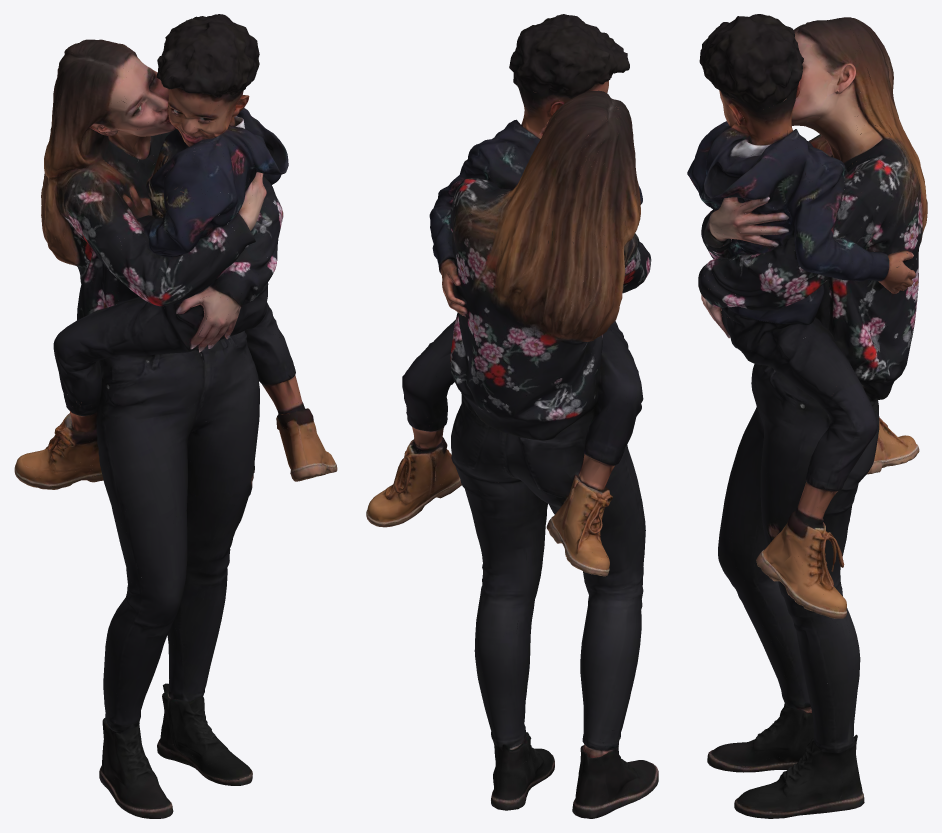
File: pedestrian-mother-child.glb
3 renders of one model, left to right at view 1: azimuth 30°, elevation 25°; view 2: azimuth 150°, elevation 25°; view 3: azimuth 270°, elevation 25°, orthographic. The views are drawn at different scales.
Parts seen in each view (by area): view 1: rp_fabienne_percy_posed_001_200k_rp_fabienne_percy_posed_001 (×2); view 2: rp_fabienne_percy_posed_001_200k_rp_fabienne_percy_posed_001 (×2); view 3: rp_fabienne_percy_posed_001_200k_rp_fabienne_percy_posed_001 (×2).
Part boxes in pixels (bbox=[...]): rp_fabienne_percy_posed_001_200k_rp_fabienne_percy_posed_001 (×2): bbox=[14, 14, 337, 818]; rp_fabienne_percy_posed_001_200k_rp_fabienne_percy_posed_001 (×2): bbox=[366, 14, 658, 818]; rp_fabienne_percy_posed_001_200k_rp_fabienne_percy_posed_001 (×2): bbox=[687, 14, 927, 818].
Size of the model in its own units: 65.42 by 171 by 47.81.
Materials: 1 (1 with a texture image).
